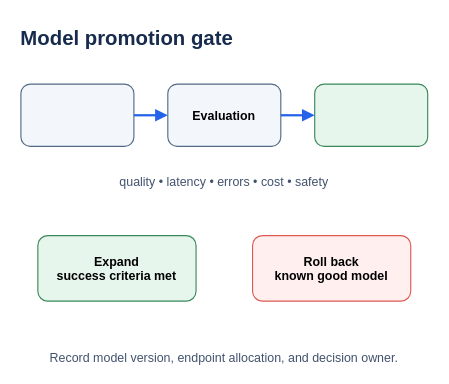
The diagram is 449 pixels wide and 384 high, and some of its shapes have lost their labels. The centre of each missing label's shape, as x and y in pixels:
Candidate: [77,114]
Limited traffic: [371,114]
